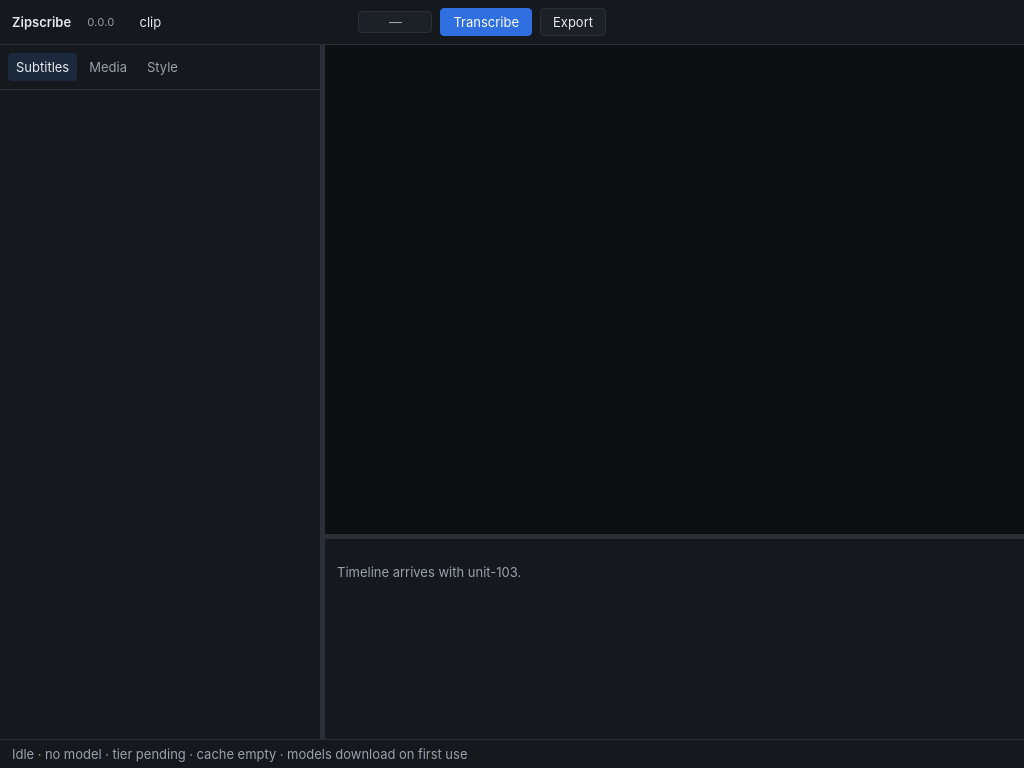
Test: CC-107.8: audio-project UI › CC-107.8: the video card still shows Resolution/fps (the audio condition did not flip)
This screenshot has width=1024, height=768.
Click the tab with test id "tab-media" at (108, 67), box [81, 53, 135, 81]
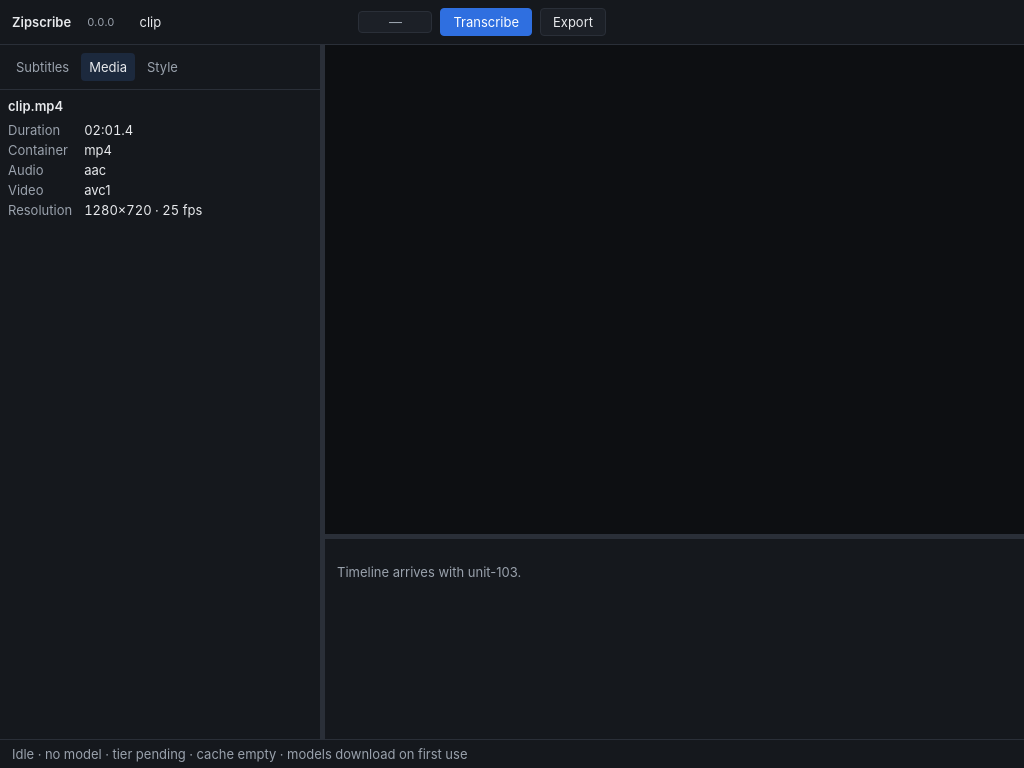
Check: the element with test id "media-asset-card" shows "1280×720", box [8, 98, 202, 218]
Check: the element with test id "media-asset-card" shows "fps", box [179, 202, 202, 218]
